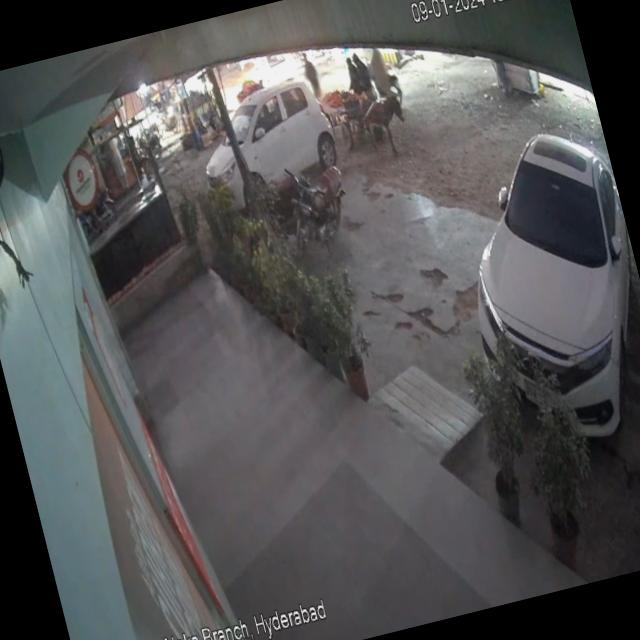Car: (422, 77, 640, 472), (166, 60, 346, 210)
Motorcycle: (276, 144, 360, 260)
